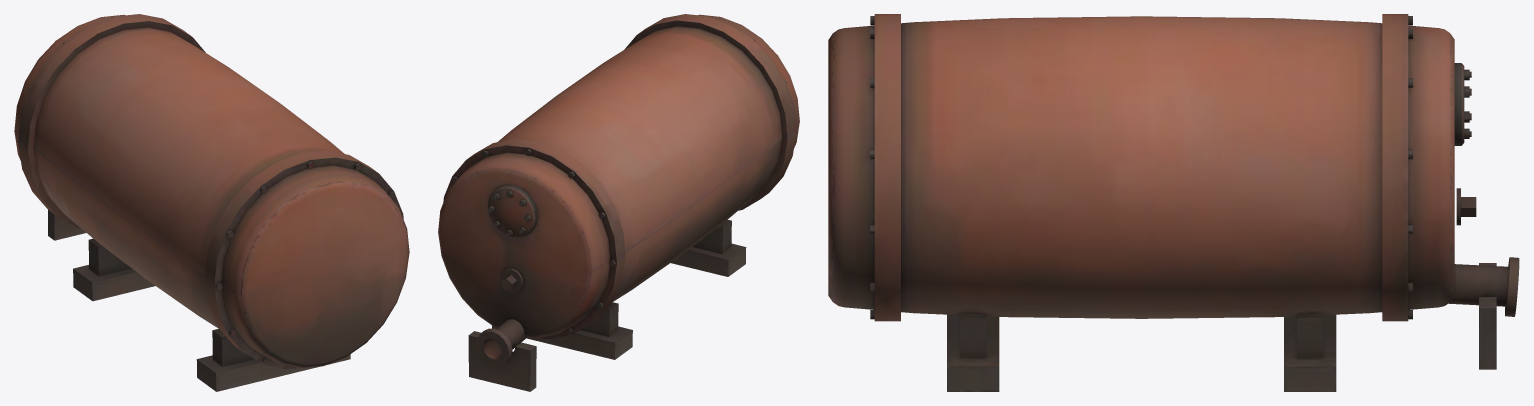
3 views of the same model, side by side, from view 1: azimuth 30°, elevation 25°; view 2: azimuth 150°, elevation 25°; view 3: azimuth 270°, elevation 25° (orthographic). The views are drawn at different scales.
Parts seen in each view (by area): view 1: body0_model0_lod0_mesh0; view 2: body0_model0_lod0_mesh0; view 3: body0_model0_lod0_mesh0.
Part boxes in pixels (x1,y1,x2,y2): body0_model0_lod0_mesh0: [14, 14, 409, 391]; body0_model0_lod0_mesh0: [438, 14, 799, 391]; body0_model0_lod0_mesh0: [828, 14, 1519, 391].
Bounding box in the file's own units: 138 × 161 × 316.
1 material, 1 textured.
